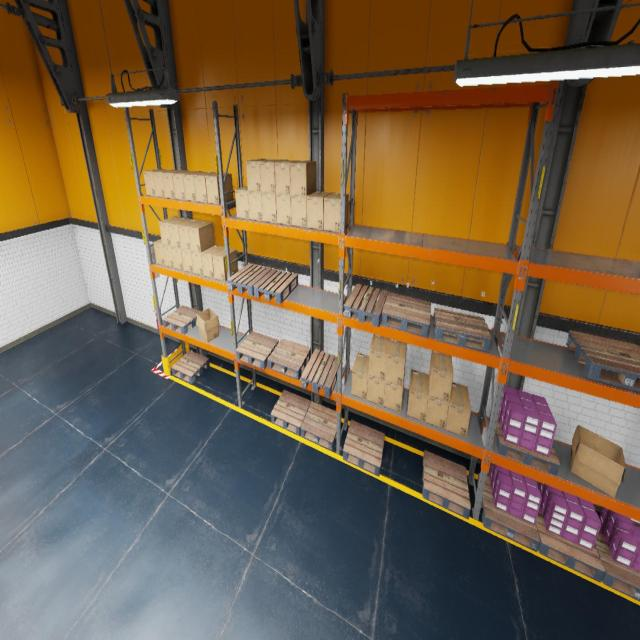box: (570, 425, 626, 498), (446, 382, 471, 438), (429, 350, 453, 402), (426, 375, 449, 429), (407, 369, 429, 422), (385, 339, 407, 386), (368, 334, 389, 380), (324, 193, 348, 232), (384, 368, 405, 412), (307, 192, 331, 230), (290, 161, 316, 196), (205, 173, 233, 204), (212, 248, 238, 281), (351, 353, 369, 400), (188, 221, 215, 252), (275, 160, 299, 194), (260, 160, 284, 193), (246, 159, 270, 192), (197, 308, 220, 342), (201, 245, 224, 278), (183, 172, 208, 202), (172, 170, 197, 200), (178, 219, 202, 250), (193, 172, 217, 203), (168, 218, 192, 248), (159, 216, 183, 246), (162, 170, 186, 199), (152, 170, 176, 198), (143, 169, 167, 196), (367, 375, 385, 406), (291, 195, 307, 228), (261, 192, 277, 222), (276, 194, 291, 225), (235, 186, 249, 219), (248, 191, 262, 221), (191, 250, 203, 276), (153, 239, 165, 265), (181, 248, 193, 273), (162, 244, 174, 268), (172, 247, 184, 270)
pallets: (536, 507, 605, 582), (477, 473, 540, 552), (489, 412, 560, 476), (566, 330, 640, 391), (422, 450, 471, 519), (594, 530, 640, 601), (433, 308, 492, 352), (342, 419, 384, 476), (381, 292, 431, 338), (300, 401, 342, 451), (344, 284, 388, 327), (270, 390, 310, 435), (301, 349, 337, 398), (268, 339, 310, 380), (236, 331, 278, 370), (253, 268, 298, 304), (227, 263, 272, 296), (172, 351, 210, 384), (162, 305, 202, 334)
